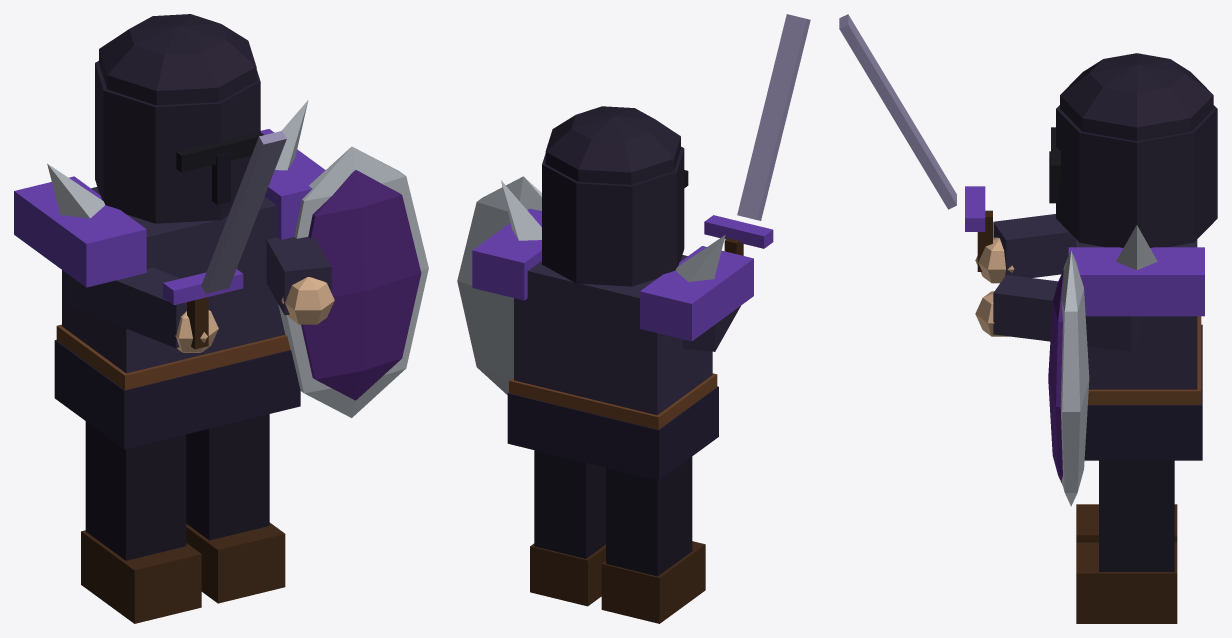
The model's file is e_knight.fbx.
3 renders of one model, left to right at view 1: azimuth 30°, elevation 25°; view 2: azimuth 150°, elevation 25°; view 3: azimuth 270°, elevation 25°, orthographic. The views are drawn at different scales.
Parts seen in each view (by area): view 1: e_knight_Body, e_knight_LegR, e_knight_LegL; view 2: e_knight_Body, e_knight_LegR, e_knight_LegL; view 3: e_knight_Body, e_knight_LegL, e_knight_LegR.
Boxes of the visible parts, x1,y1,x2,y2 form: e_knight_Body: (14,14,428,449); e_knight_LegR: (81,421,201,623); e_knight_LegL: (186,414,285,603); e_knight_Body: (457,14,810,480); e_knight_LegR: (601,456,705,623); e_knight_LegL: (530,450,605,606); e_knight_Body: (839,14,1217,506); e_knight_LegL: (1076,460,1177,623); e_knight_LegR: (1076,504,1177,542).
Size of the model in its own units: 0.7377 by 1.18 by 0.7491.
